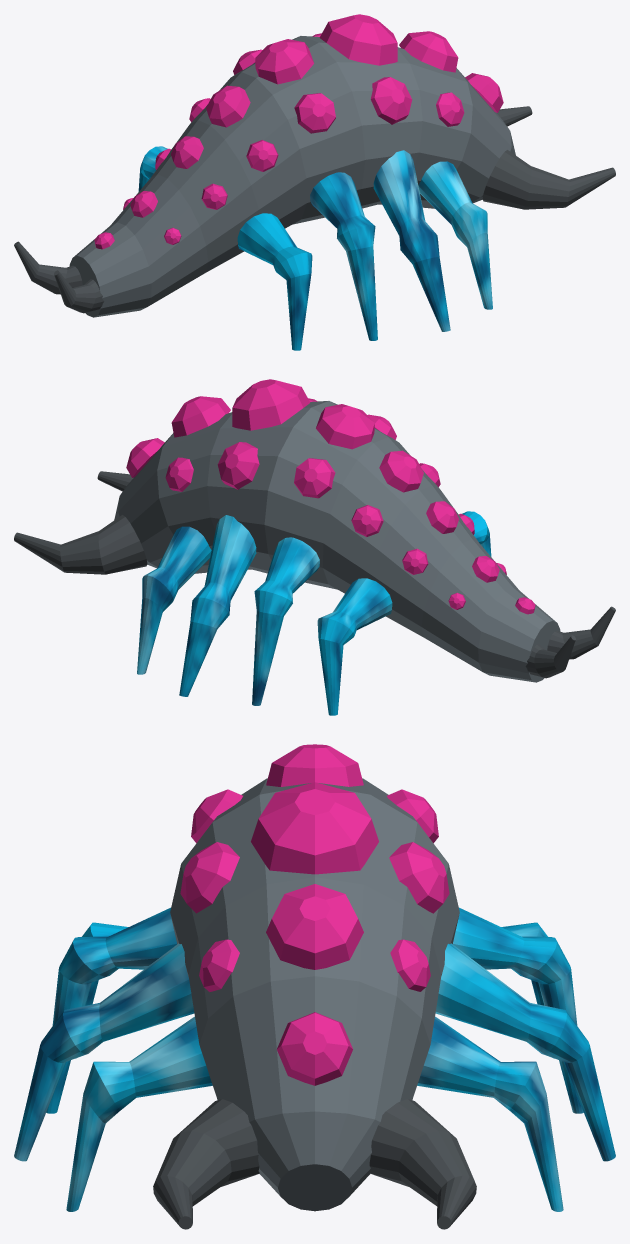
File: insect_v1.fbx
3 views of the same model, one above another, from view 1: azimuth 30°, elevation 25°; view 2: azimuth 150°, elevation 25°; view 3: azimuth 270°, elevation 25° (orthographic). The views are drawn at different scales.
Parts seen in each view (by area): view 1: Cylinder; view 2: Cylinder; view 3: Cylinder.
Boxes of the visible parts, <box> form: Cylinder: <box>14,14,615,350</box>; Cylinder: <box>14,379,615,715</box>; Cylinder: <box>14,744,615,1229</box>.
Size of the model in its own units: 970 by 424 by 610.
